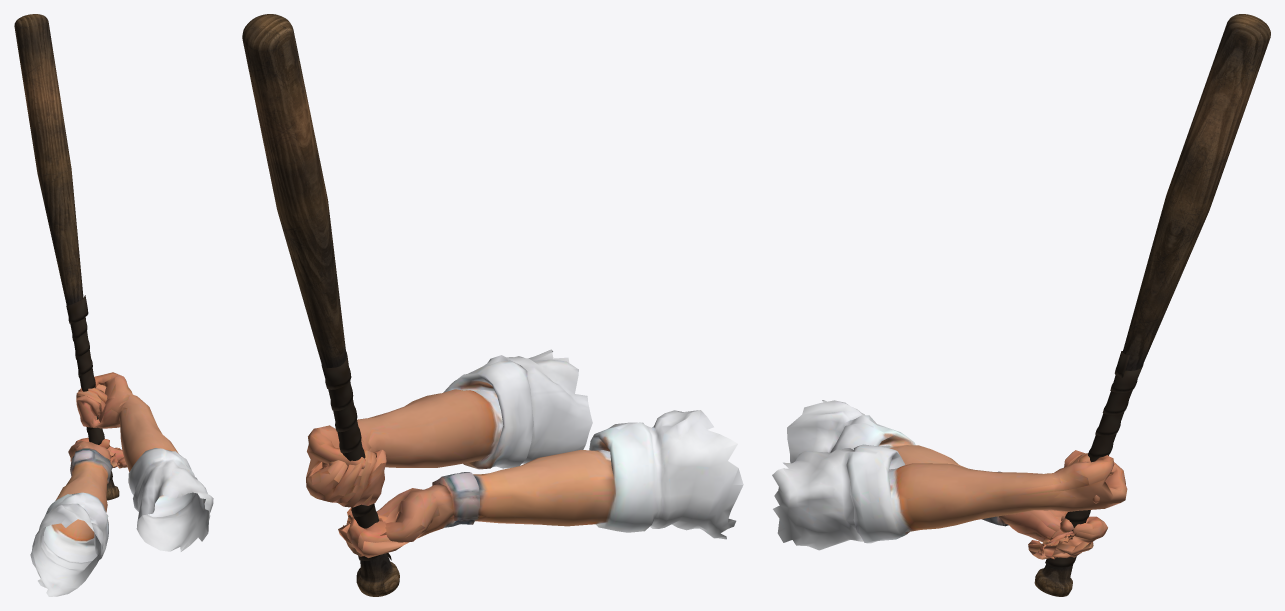
The model's file is fp_bat.glb.
3 renders of one model, left to right at view 1: azimuth 30°, elevation 25°; view 2: azimuth 150°, elevation 25°; view 3: azimuth 270°, elevation 25°, orthographic. The views are drawn at different scales.
Parts seen in each view (by area): view 1: fp_bat_bat, fp_bat_armR, fp_bat_armL; view 2: fp_bat_armL, fp_bat_armR, fp_bat_bat; view 3: fp_bat_armR, fp_bat_bat, fp_bat_armL.
Boxes of the visible parts, left/top/right/bottom form: fp_bat_bat: left=14, top=14, right=119, bottom=500; fp_bat_armR: left=76, top=372, right=213, bottom=551; fp_bat_armL: left=30, top=437, right=127, bottom=596; fp_bat_armL: left=338, top=410, right=743, bottom=557; fp_bat_armR: left=306, top=349, right=592, bottom=507; fp_bat_bat: left=242, top=14, right=399, bottom=596; fp_bat_armR: left=772, top=444, right=1127, bottom=550; fp_bat_bat: left=1034, top=14, right=1270, bottom=596; fp_bat_armL: left=787, top=400, right=1107, bottom=559.
Size of the model in its own units: 0.3792 by 0.8086 by 0.6354.
Materials: 2 (2 with a texture image).
